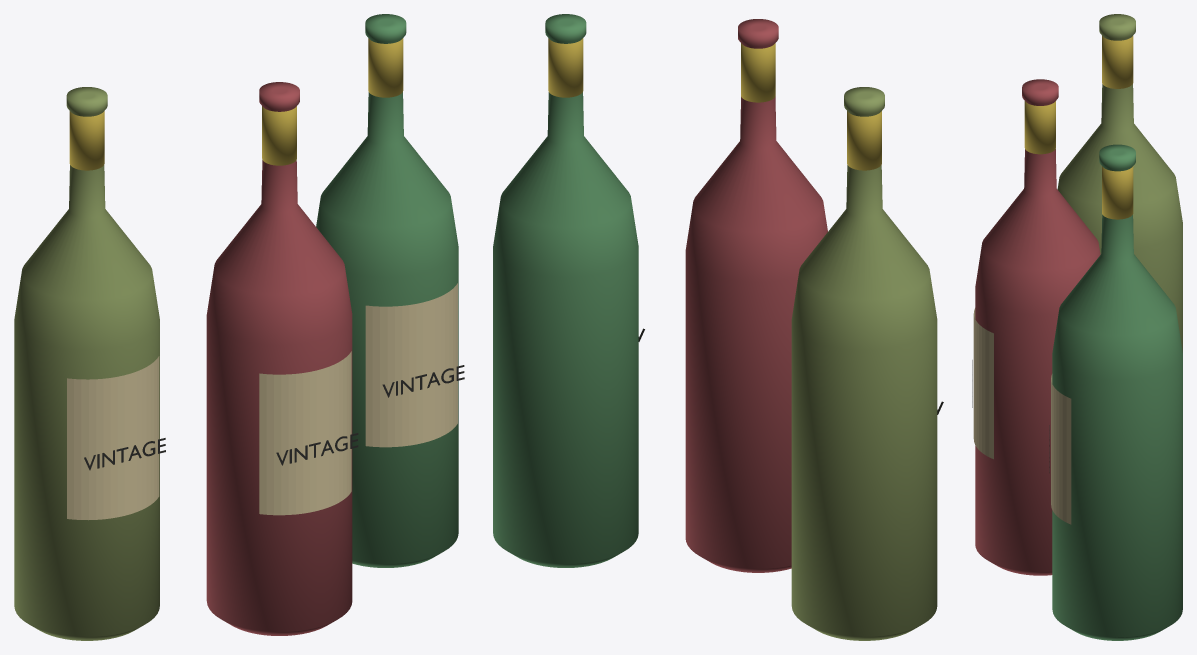
3 renders of one model, left to right at view 1: azimuth 30°, elevation 25°; view 2: azimuth 150°, elevation 25°; view 3: azimuth 270°, elevation 25°, orthographic. The views are drawn at different scales.
Visible parts, largest first — view 1: TI002 / bottle body.001, TI002 / bottle body, TI002 / bottle body.002, TI002 / curved bottle label.001, TI002 / curved bottle label.002, TI002 / curved bottle label, TI002 / bottle neck foil, TI002 / bottle neck foil.002, TI002 / bottle neck foil.001; view 2: TI002 / bottle body, TI002 / bottle body.002, TI002 / bottle body.001, TI002 / bottle neck foil.002, TI002 / bottle neck foil.001, TI002 / bottle neck foil; view 3: TI002 / bottle body.002, TI002 / bottle body.001, TI002 / bottle body, TI002 / curved bottle label.001, TI002 / curved bottle label.002, TI002 / bottle neck foil.002, TI002 / bottle neck foil, TI002 / bottle neck foil.001.
Part boxes in pixels (bbox=[...]): TI002 / bottle body.001: bbox=[206, 82, 352, 635]; TI002 / bottle body: bbox=[14, 87, 159, 640]; TI002 / bottle body.002: bbox=[316, 14, 458, 567]; TI002 / curved bottle label.001: bbox=[259, 351, 351, 515]; TI002 / curved bottle label.002: bbox=[365, 283, 457, 447]; TI002 / curved bottle label: bbox=[67, 356, 159, 520]; TI002 / bottle neck foil: bbox=[69, 111, 104, 170]; TI002 / bottle neck foil.002: bbox=[368, 38, 403, 97]; TI002 / bottle neck foil.001: bbox=[262, 106, 296, 165]; TI002 / bottle body: bbox=[791, 87, 937, 640]; TI002 / bottle body.002: bbox=[493, 14, 638, 567]; TI002 / bottle body.001: bbox=[685, 19, 827, 572]; TI002 / bottle neck foil.002: bbox=[548, 38, 583, 97]; TI002 / bottle neck foil.001: bbox=[741, 43, 775, 102]; TI002 / bottle neck foil: bbox=[847, 111, 881, 170]; TI002 / bottle body.002: bbox=[1052, 144, 1182, 640]; TI002 / bottle body.001: bbox=[975, 79, 1100, 575]; TI002 / bottle body: bbox=[1057, 14, 1182, 352]; TI002 / curved bottle label.001: bbox=[973, 308, 993, 459]; TI002 / curved bottle label.002: bbox=[1051, 374, 1071, 524]; TI002 / bottle neck foil.002: bbox=[1102, 166, 1133, 219]; TI002 / bottle neck foil: bbox=[1102, 36, 1133, 88]; TI002 / bottle neck foil.001: bbox=[1024, 101, 1055, 154].
Size of the model in its own units: 2.56 by 3 by 1.23.
